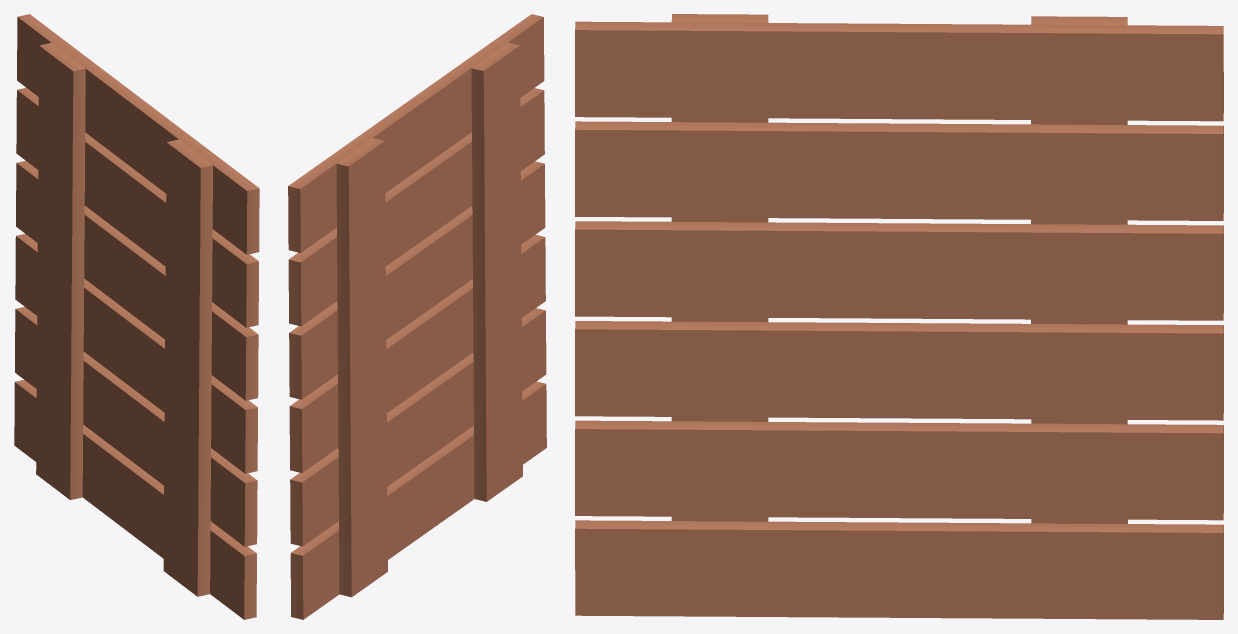
Rendered from planks.062_lev4.glb.
3 renders of one model, left to right at view 1: azimuth 30°, elevation 25°; view 2: azimuth 150°, elevation 25°; view 3: azimuth 270°, elevation 25°, orthographic. The views are drawn at different scales.
Parts seen in each view (by area): view 1: planks.062_lev4; view 2: planks.062_lev4; view 3: planks.062_lev4.
Part boxes in pixels (bbox=[...]): planks.062_lev4: bbox=[14, 14, 259, 619]; planks.062_lev4: bbox=[288, 14, 546, 619]; planks.062_lev4: bbox=[575, 14, 1223, 619].
Size of the model in its own units: 0.5719 by 7.11 by 7.11.
1 material, 1 textured.
